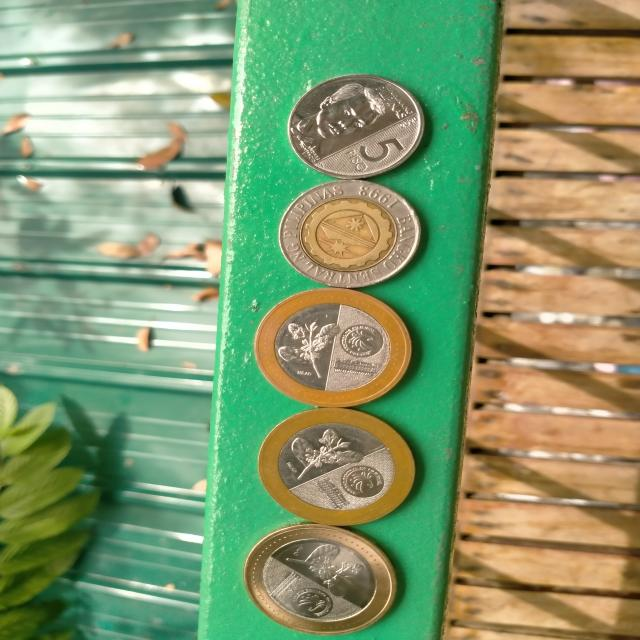10_Old_Back: (281, 185, 428, 287)
20_New_Back: (279, 314, 349, 392), (283, 539, 377, 594), (278, 424, 370, 480)
5_New_Front: (346, 131, 404, 171)
